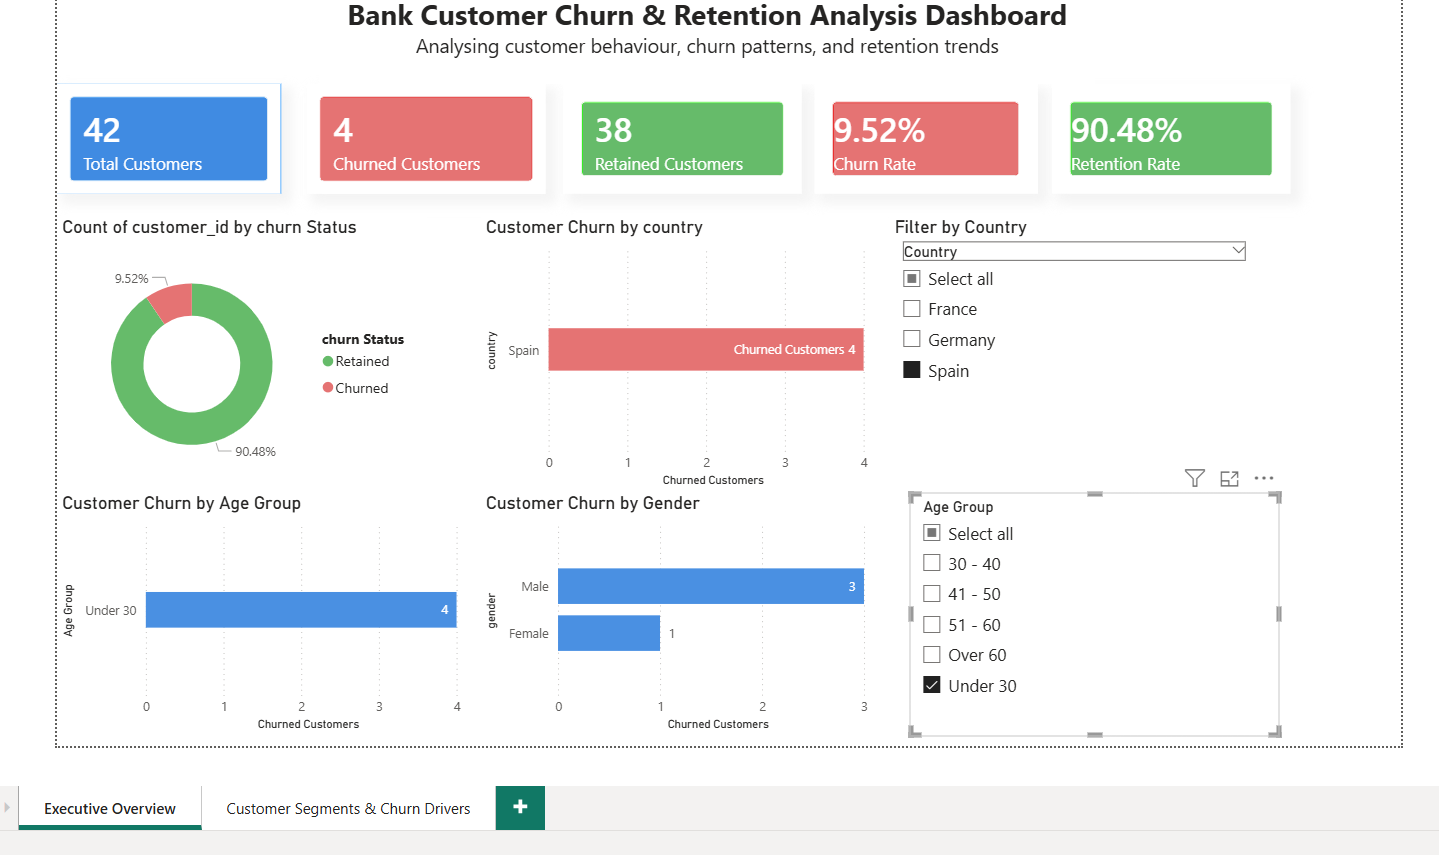

The page's visual inventory and layout, read from the dashboard file:
{"tool":"powerbi","page":{"name":"Executive Overview","canvas":[1280,720],"ordinal":0},"visuals":[{"type":"cardVisual","fields":{"Data":["ChurnTable.Total Customers"]},"box":[0,89.3,214,105.2],"z":0},{"type":"cardVisual","fields":{"Data":["ChurnTable.Churned Customers"]},"box":[238.5,89.3,227.4,105.2],"z":1000},{"type":"cardVisual","fields":{"Data":["ChurnTable.Retained Customers"]},"box":[481.8,89.3,227.4,105.2],"z":2000},{"type":"cardVisual","fields":{"Data":["ChurnTable.Churn Rate"]},"box":[721.5,89.3,212.8,105.2],"z":3000},{"type":"cardVisual","fields":{"Data":["ChurnTable.Retention Rate"]},"box":[947.7,89.3,227.4,105.2],"z":4000},{"type":"textbox","box":[249.5,0,738.6,89.3],"z":5000},{"type":"donutChart","fields":{"Category":["ChurnTable.churn Status"],"Y":["CountNonNull(ChurnTable.customer_id)"]},"box":[0,215.2,352.2,262.9],"z":6000},{"type":"clusteredBarChart","title":"Customer Churn  by country","fields":{"Category":["ChurnTable.country"],"Y":["ChurnTable.Churned Customers"]},"box":[403.5,215.2,387.6,262.9],"z":7000},{"type":"clusteredBarChart","title":"Customer Churn by Age Group","fields":{"Y":["ChurnTable.Churned Customers"],"Category":["ChurnTable.Age Group"]},"box":[0,478.1,403.5,232.3],"z":8000},{"type":"clusteredBarChart","title":"Customer Churn by Gender","fields":{"Category":["ChurnTable.gender"],"Y":["ChurnTable.Churned Customers"]},"box":[404,478,388,232],"z":9000},{"type":"slicer","title":"Filter by Country","fields":{"Values":["ChurnTable.country"]},"box":[792.4,215.2,352.2,247],"z":10000},{"type":"slicer","fields":{"Values":["ChurnTable.Age Group"]},"box":[812,478.1,352.2,232.3],"z":11000}]}

Visuals, with their boxes on the page's 1280x720 design canvas (x1, y1, x2, y2). These are canvas units, not pixel positions in the 1439x855 screenshot, which may show the page scaled, cropped or inside an application window:
cardVisual - ChurnTable.Total Customers: box=[0, 89, 214, 194]
cardVisual - ChurnTable.Churned Customers: box=[238, 89, 466, 194]
cardVisual - ChurnTable.Retained Customers: box=[482, 89, 709, 194]
cardVisual - ChurnTable.Churn Rate: box=[722, 89, 934, 194]
cardVisual - ChurnTable.Retention Rate: box=[948, 89, 1175, 194]
textbox: box=[250, 0, 988, 89]
donutChart - ChurnTable.churn Status x CountNonNull(ChurnTable.customer_id): box=[0, 215, 352, 478]
"Customer Churn  by country" clusteredBarChart: box=[404, 215, 791, 478]
"Customer Churn by Age Group" clusteredBarChart: box=[0, 478, 404, 710]
"Customer Churn by Gender" clusteredBarChart: box=[404, 478, 792, 710]
"Filter by Country" slicer: box=[792, 215, 1145, 462]
slicer - ChurnTable.Age Group: box=[812, 478, 1164, 710]
